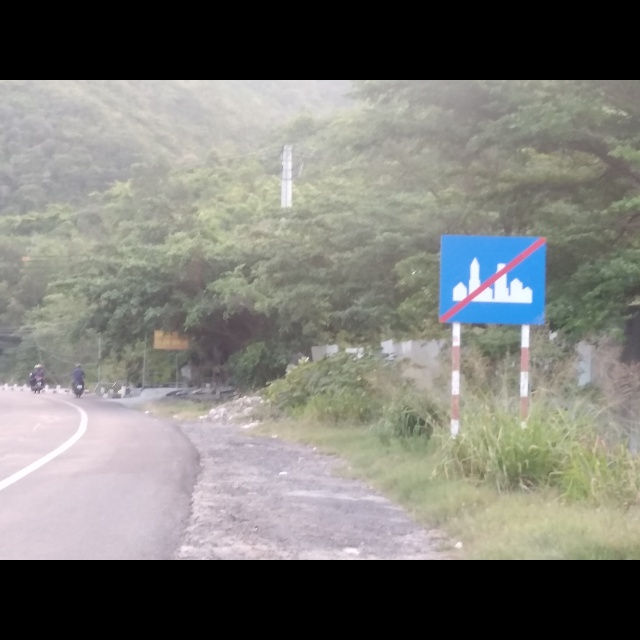Hết khu đông dân cư: (438, 232, 548, 327)
